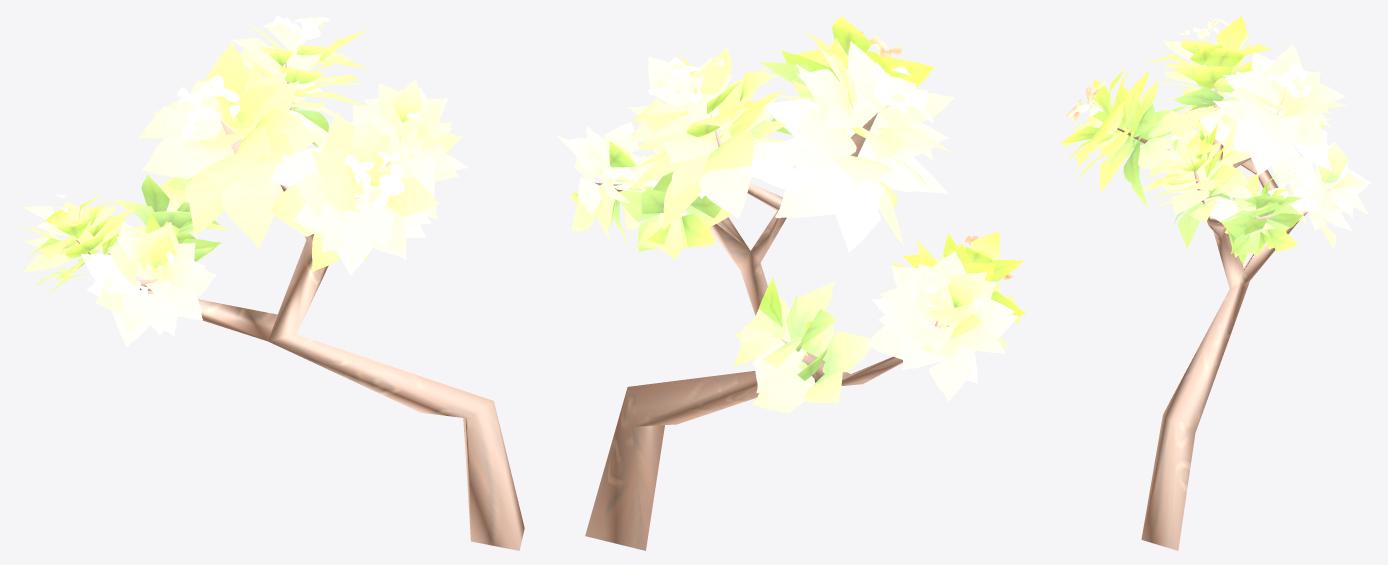
The model's file is Tree_03.fbx.
The picture shows the model from 3 angles, left to right: view 1: azimuth 30°, elevation 25°; view 2: azimuth 150°, elevation 25°; view 3: azimuth 270°, elevation 25°; orthographic projection. The views are drawn at different scales.
Parts seen in each view (by area): view 1: TRT4; view 2: TRT4; view 3: TRT4.
Part boxes in pixels (bbox=[...]): TRT4: bbox=[17, 15, 524, 550]; TRT4: bbox=[556, 16, 1025, 550]; TRT4: bbox=[1060, 16, 1370, 550].
Size of the model in its own units: 657 by 747 by 493.
